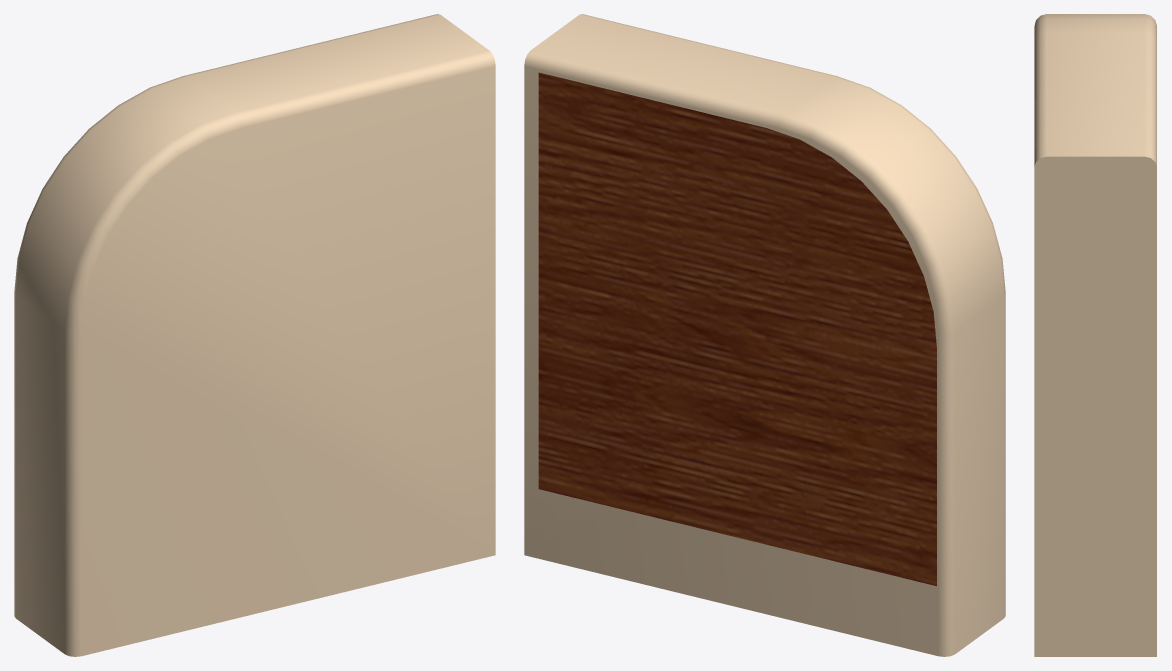
The model's file is Wall_Straight_RC.glb.
3 views of the same model, side by side, from view 1: azimuth 30°, elevation 25°; view 2: azimuth 150°, elevation 25°; view 3: azimuth 270°, elevation 25° (orthographic).
Visible parts, largest first — view 1: Cube.003; view 2: Plane.002, Cube.003; view 3: Cube.003.
Part boxes in pixels (left/top/right/bottom): Cube.003: left=14, top=14, right=495, bottom=656; Plane.002: left=538, top=72, right=936, bottom=586; Cube.003: left=524, top=14, right=1005, bottom=656; Cube.003: left=1034, top=14, right=1156, bottom=656.
Size of the model in its own units: 2 by 2.25 by 0.5022.
Materials: 2 (2 with a texture image).
